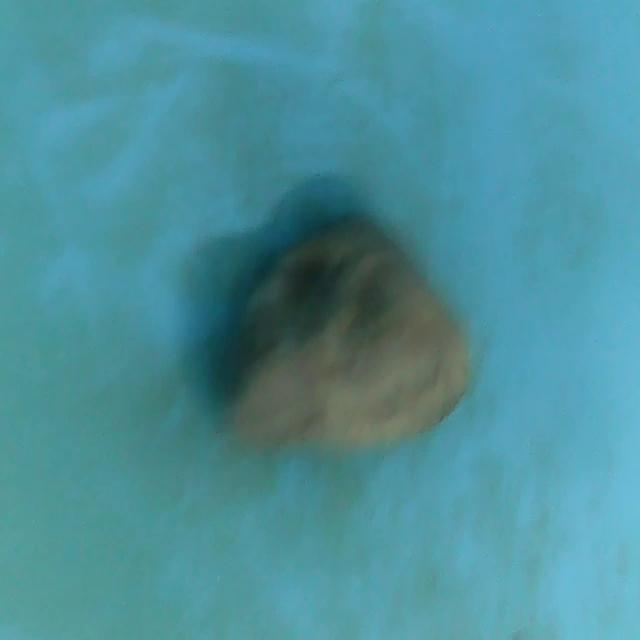rock: (213, 208, 475, 461)
